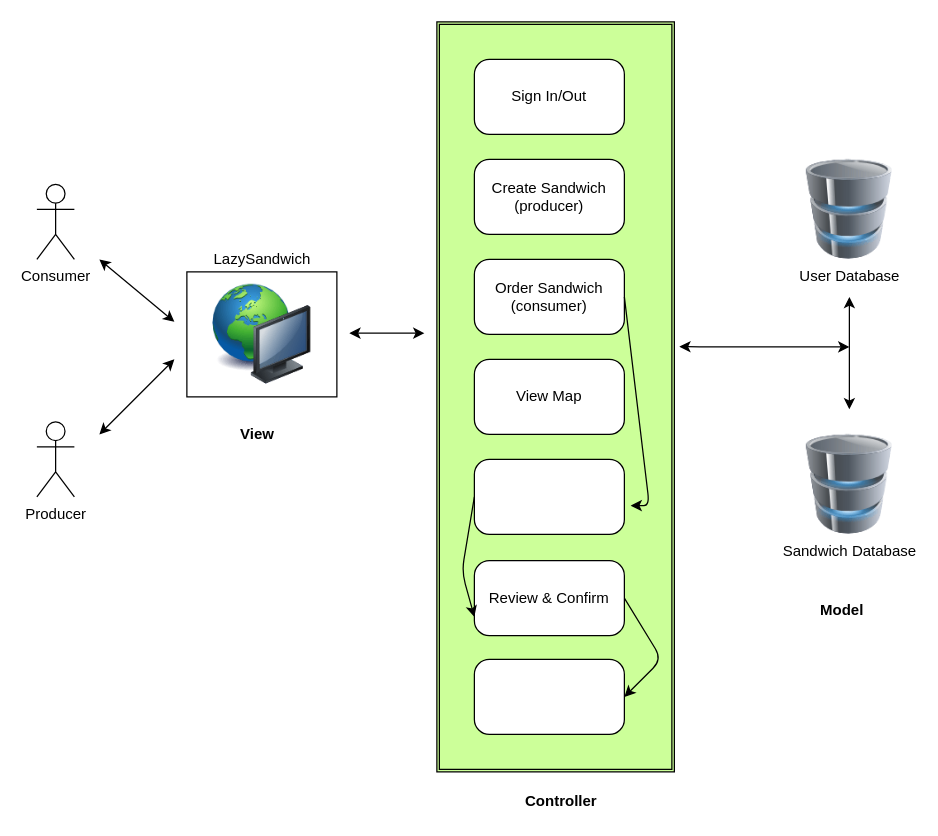
Image size: 938x836. Some labels were removed from this diagram. The centre of each missing label's shape, as x and y in pixels:
Enter Payment Method: [548,496]
Rating/Review: [548,696]
